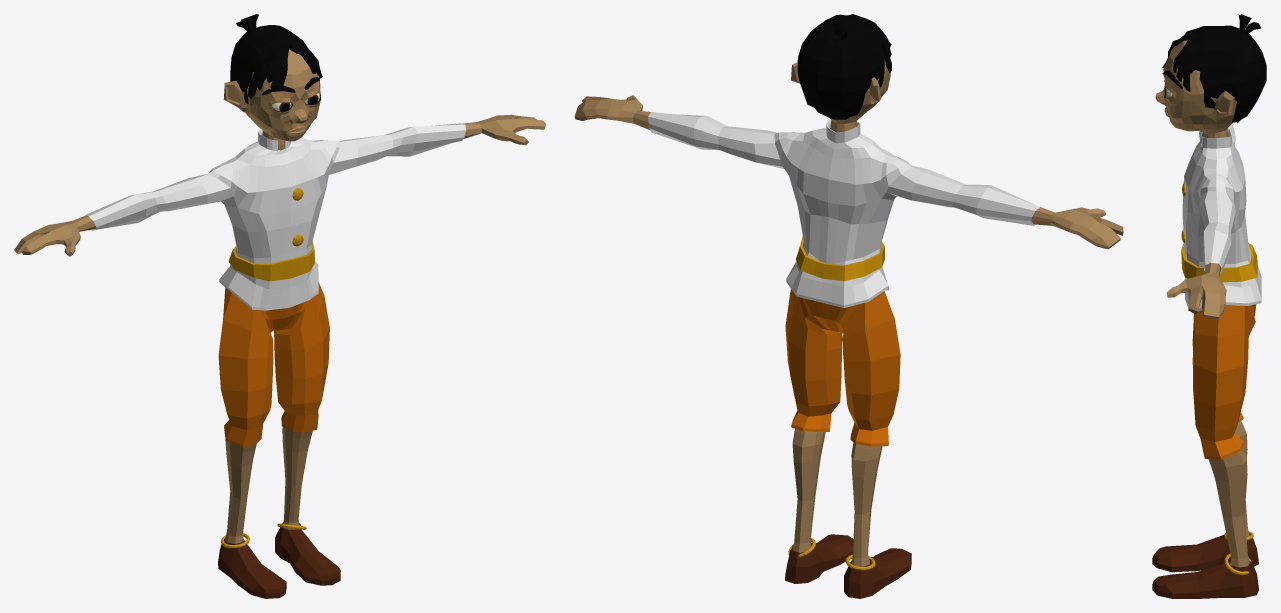
The model's file is YoungerBro_Model2.fbx.
3 renders of one model, left to right at view 1: azimuth 30°, elevation 25°; view 2: azimuth 150°, elevation 25°; view 3: azimuth 270°, elevation 25°, orthographic. The views are drawn at different scales.
Parts seen in each view (by area): view 1: Mesh_YB_Shirt, Mesh_YB_Pants, Mesh_YB_Body, Mesh_YB_Hair, Mesh_YB_Shoe_R, Mesh_YB_Shoe_L, Mesh_YB_Belt; view 2: Mesh_YB_Shirt, Mesh_YB_Pants, Mesh_YB_Body, Mesh_YB_Hair, Mesh_YB_Shoe_R, Mesh_YB_Shoe_L, Mesh_YB_Belt; view 3: Mesh_YB_Shirt, Mesh_YB_Body, Mesh_YB_Pants, Mesh_YB_Hair, Mesh_YB_Shoe_L, Mesh_YB_Shoe_R, Mesh_YB_Belt.
Boxes of the visible parts, box(x1,y1,x2,y2) form: Mesh_YB_Shirt: box(86, 123, 466, 310); Mesh_YB_Pants: box(218, 282, 329, 447); Mesh_YB_Body: box(14, 49, 545, 543); Mesh_YB_Hair: box(230, 14, 322, 103); Mesh_YB_Shoe_R: box(218, 538, 286, 598); Mesh_YB_Shoe_L: box(275, 522, 340, 585); Mesh_YB_Belt: box(228, 241, 314, 281); Mesh_YB_Shirt: box(648, 112, 1040, 307); Mesh_YB_Pants: box(785, 289, 900, 446); Mesh_YB_Body: box(574, 57, 1123, 566); Mesh_YB_Hair: box(797, 14, 891, 119); Mesh_YB_Shoe_R: box(844, 548, 911, 598); Mesh_YB_Shoe_L: box(785, 534, 853, 583); Mesh_YB_Belt: box(796, 236, 884, 281); Mesh_YB_Shirt: box(1182, 124, 1261, 311); Mesh_YB_Body: box(1155, 40, 1249, 567); Mesh_YB_Pants: box(1192, 304, 1256, 459); Mesh_YB_Hair: box(1168, 14, 1266, 123); Mesh_YB_Shoe_L: box(1152, 560, 1258, 598); Mesh_YB_Shoe_R: box(1152, 533, 1258, 572); Mesh_YB_Belt: box(1181, 243, 1257, 282).
Bounding box in the file's own units: 1135 × 1129 × 210.
